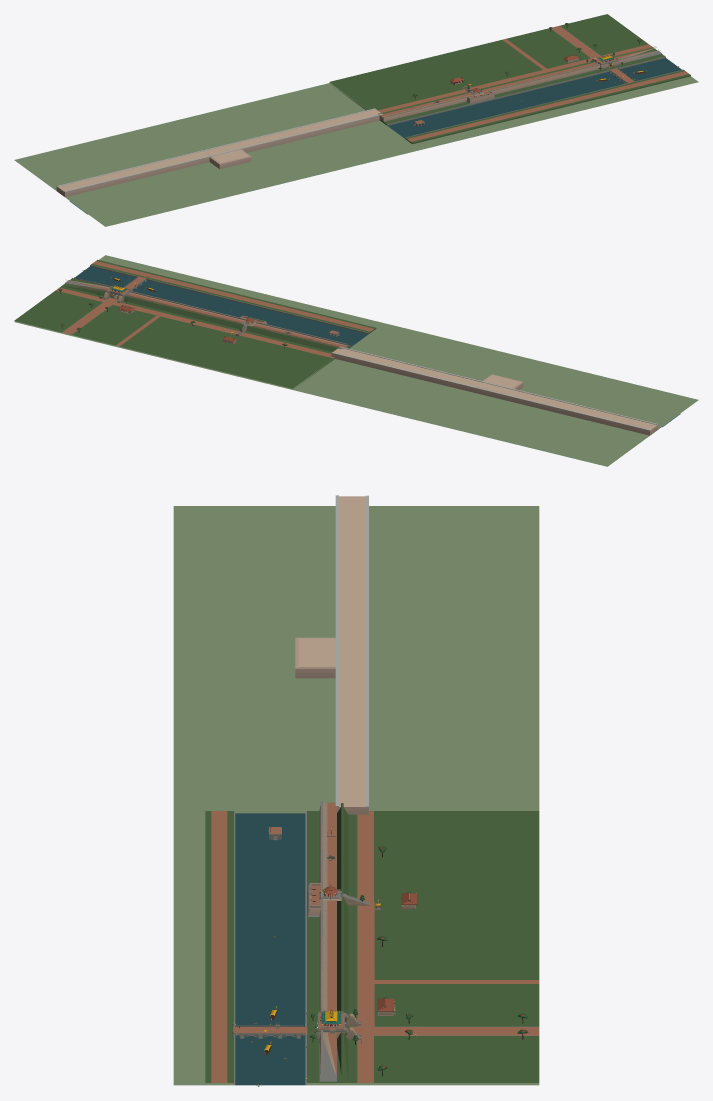
The model's file is T17_cua_quang_duc_than_cong_tay.glb.
3 renders of one model, top to bottom at view 1: azimuth 30°, elevation 25°; view 2: azimuth 150°, elevation 25°; view 3: azimuth 270°, elevation 25°, orthographic. The views are drawn at different scales.
Parts seen in each view (by area): view 1: T17_V2_Satellite_Seamless_Base, T17_Terrain, T17_Vauban_Wall; view 2: T17_V2_Satellite_Seamless_Base, T17_Terrain, T17_Vauban_Wall; view 3: T17_V2_Satellite_Seamless_Base, T17_Terrain, T17_Vauban_Wall.
Boxes of the visible parts, x1=… form: T17_V2_Satellite_Seamless_Base: x1=14, y1=76, x2=698, y2=226; T17_Terrain: x1=329, y1=14, x2=690, y2=144; T17_Vauban_Wall: x1=378, y1=39, x2=661, y2=121; T17_V2_Satellite_Seamless_Base: x1=14, y1=255, x2=698, y2=466; T17_Terrain: x1=14, y1=259, x2=376, y2=388; T17_Vauban_Wall: x1=63, y1=277, x2=347, y2=351; T17_V2_Satellite_Seamless_Base: x1=173, y1=495, x2=539, y2=1085; T17_Terrain: x1=205, y1=811, x2=539, y2=1085; T17_Vauban_Wall: x1=307, y1=801, x2=539, y2=1081.
Size of the model in its own units: 822 by 16.25 by 219.
24 materials, 4 textured.
